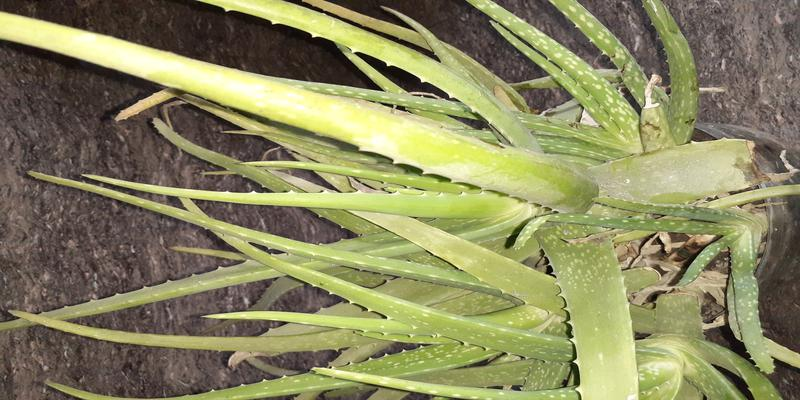Aloevera: (117, 61, 711, 353)
